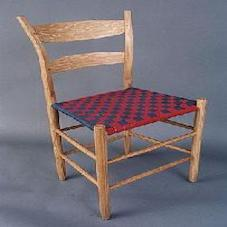chair: (7, 8, 210, 215), (7, 8, 210, 214)
